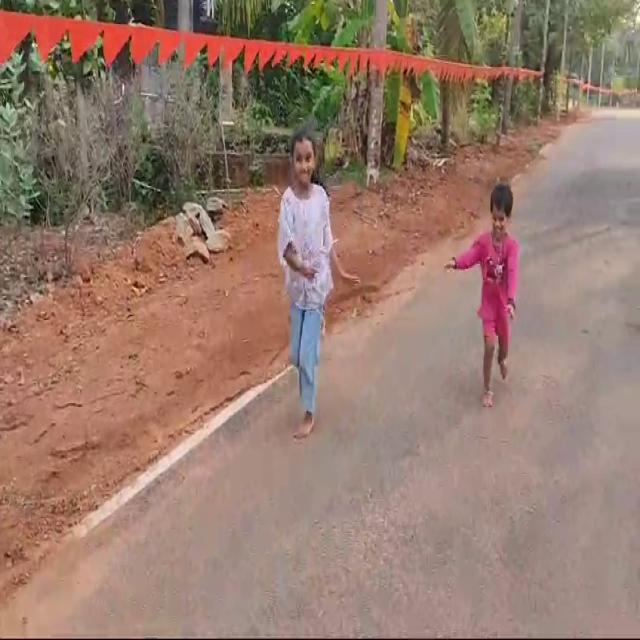child: (248, 99, 368, 462), (436, 84, 552, 458)
